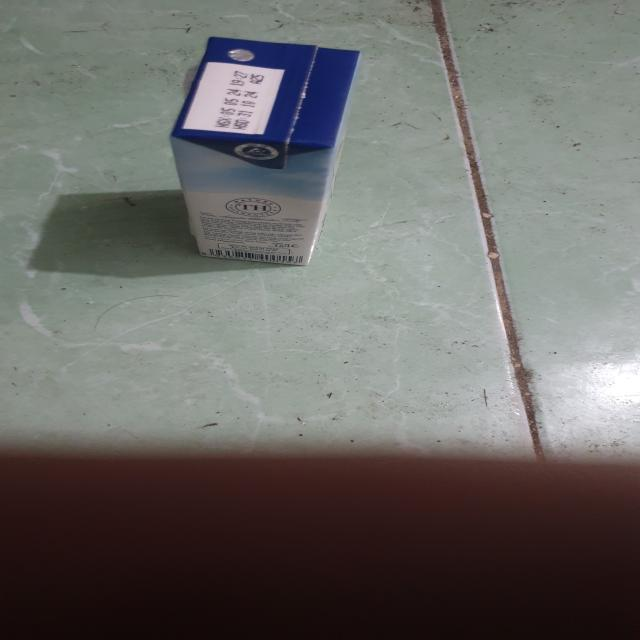TH: (160, 35, 368, 273)
